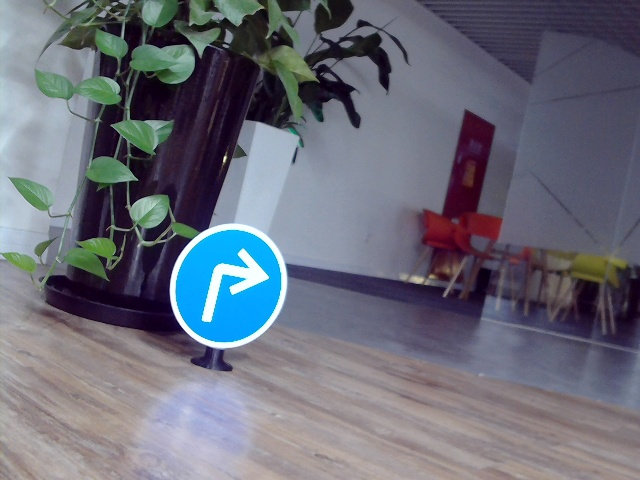turn_right: (202, 245, 264, 329)
